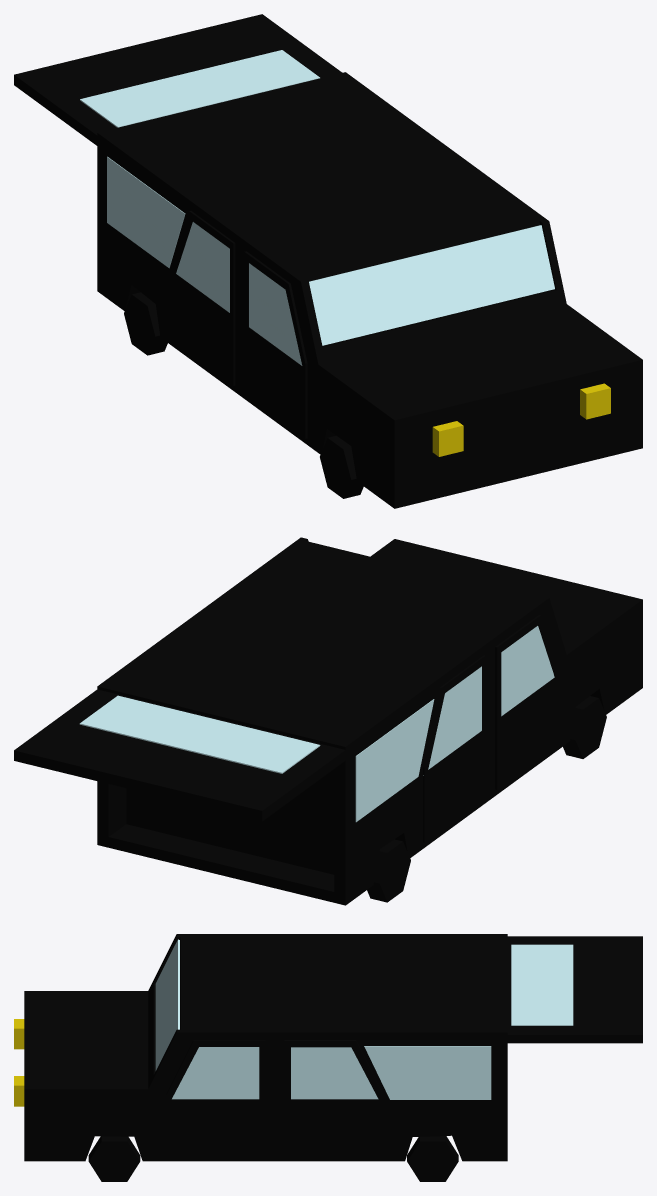
The model's file is CocheFunebreAbierto.fbx.
3 renders of one model, top to bottom at view 1: azimuth 30°, elevation 25°; view 2: azimuth 150°, elevation 25°; view 3: azimuth 270°, elevation 25°, orthographic. The views are drawn at different scales.
Parts seen in each view (by area): view 1: Cube, Cube.010, Cube.014, Cube.013, Cube.004, Cube.005, Cube.011, Cube.009, Cube.008, Cube.002, Cylinder.002, Cylinder.003; view 2: Cube, Cube.014, Cube.013, Cube.004, Cube.005, Cube.011, Cube.009, Cube.008, Cylinder.003, Cylinder.002; view 3: Cube, Cube.014, Cube.001, Cube.003, Cube.012, Cube.013, Cube.006, Cube.007, Cube.010, Cylinder, Cylinder.001, Cube.002.
Boxes of the visible parts, x1,y1,x2,y2 form: Cube: [97, 72, 642, 508]; Cube.010: [309, 225, 554, 345]; Cube.014: [14, 14, 342, 148]; Cube.013: [80, 50, 319, 127]; Cube.004: [244, 251, 307, 438]; Cube.005: [172, 211, 235, 385]; Cube.011: [107, 156, 185, 268]; Cube.009: [176, 222, 229, 312]; Cube.008: [249, 263, 302, 365]; Cube.002: [432, 383, 610, 456]; Cylinder.002: [320, 435, 363, 498]; Cylinder.003: [124, 292, 167, 355]; Cube: [97, 537, 642, 905]; Cube.014: [14, 689, 349, 821]; Cube.013: [79, 695, 320, 773]; Cube.004: [495, 614, 558, 789]; Cube.005: [423, 655, 485, 842]; Cube.011: [355, 699, 434, 822]; Cube.009: [423, 666, 481, 775]; Cube.008: [501, 626, 554, 716]; Cylinder.003: [367, 839, 410, 902]; Cylinder.002: [563, 696, 606, 758]; Cube: [24, 934, 507, 1161]; Cube.014: [500, 936, 642, 1043]; Cube.001: [284, 1040, 383, 1156]; Cube.003: [166, 1040, 265, 1156]; Cube.012: [364, 1046, 491, 1099]; Cube.013: [511, 944, 573, 1025]; Cube.006: [172, 1047, 259, 1099]; Cube.007: [291, 1047, 378, 1099]; Cube.010: [155, 939, 179, 1070]; Cylinder: [88, 1136, 140, 1181]; Cylinder.001: [407, 1136, 458, 1181]; Cube.002: [14, 1019, 24, 1106].
Size of the model in its own units: 173 by 119 by 456.
